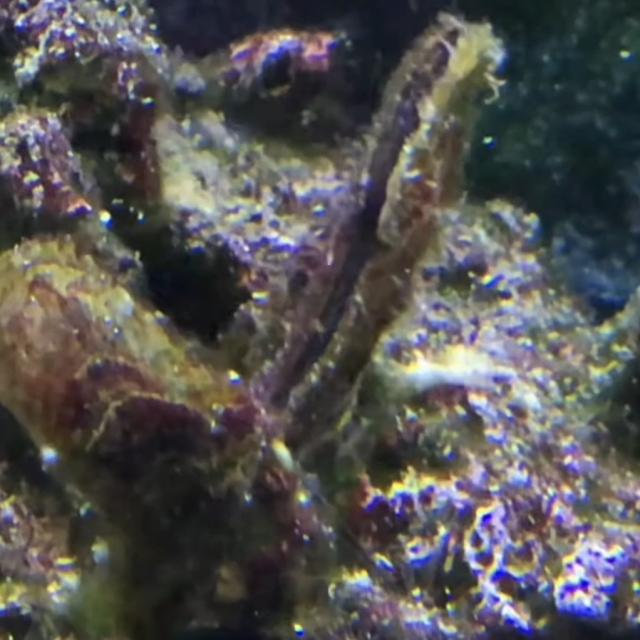Oyster-Indeterminate: (0, 238, 303, 600)
Oyster-Open: (215, 14, 504, 443)
